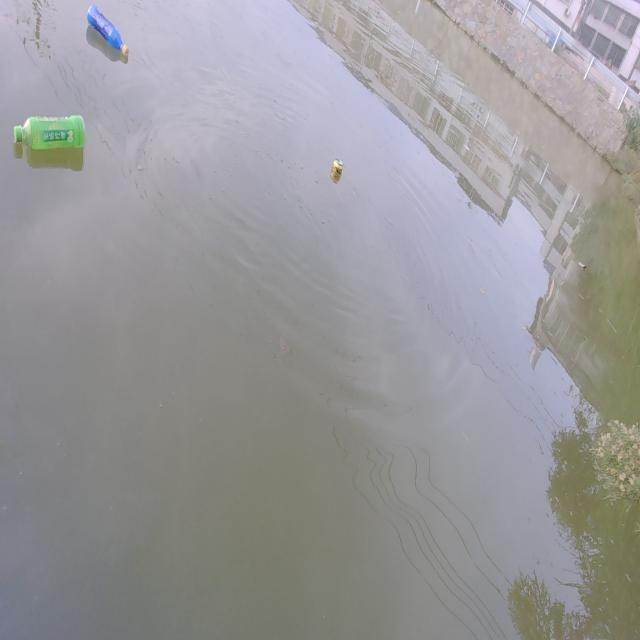bottle: (3, 102, 96, 159), (78, 6, 140, 61)
